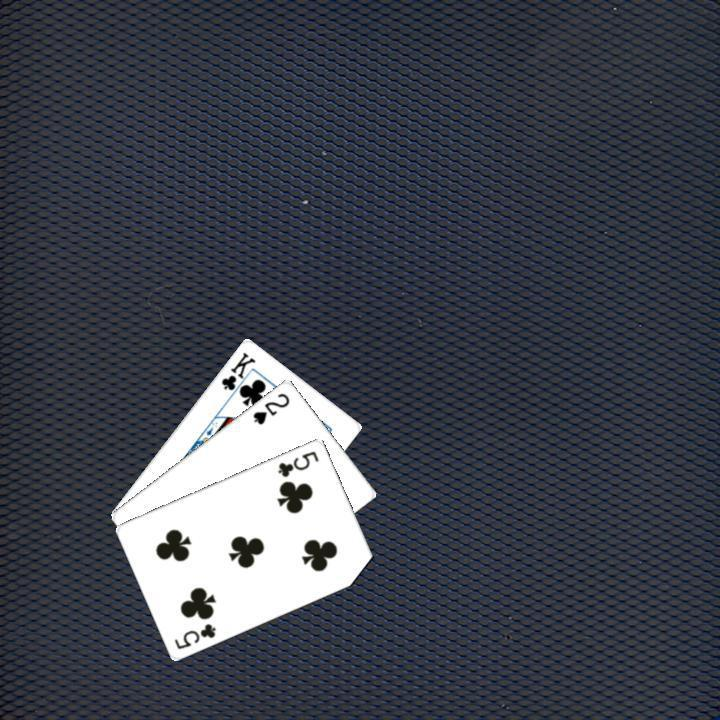2: (248, 388, 292, 426)
5: (170, 618, 218, 651), (274, 446, 321, 479)
K: (217, 348, 258, 401)
